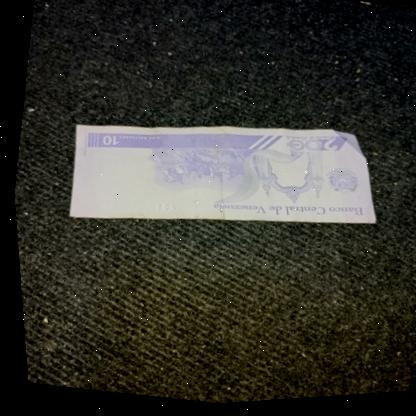ten-back-vef: (55, 85, 389, 268)
